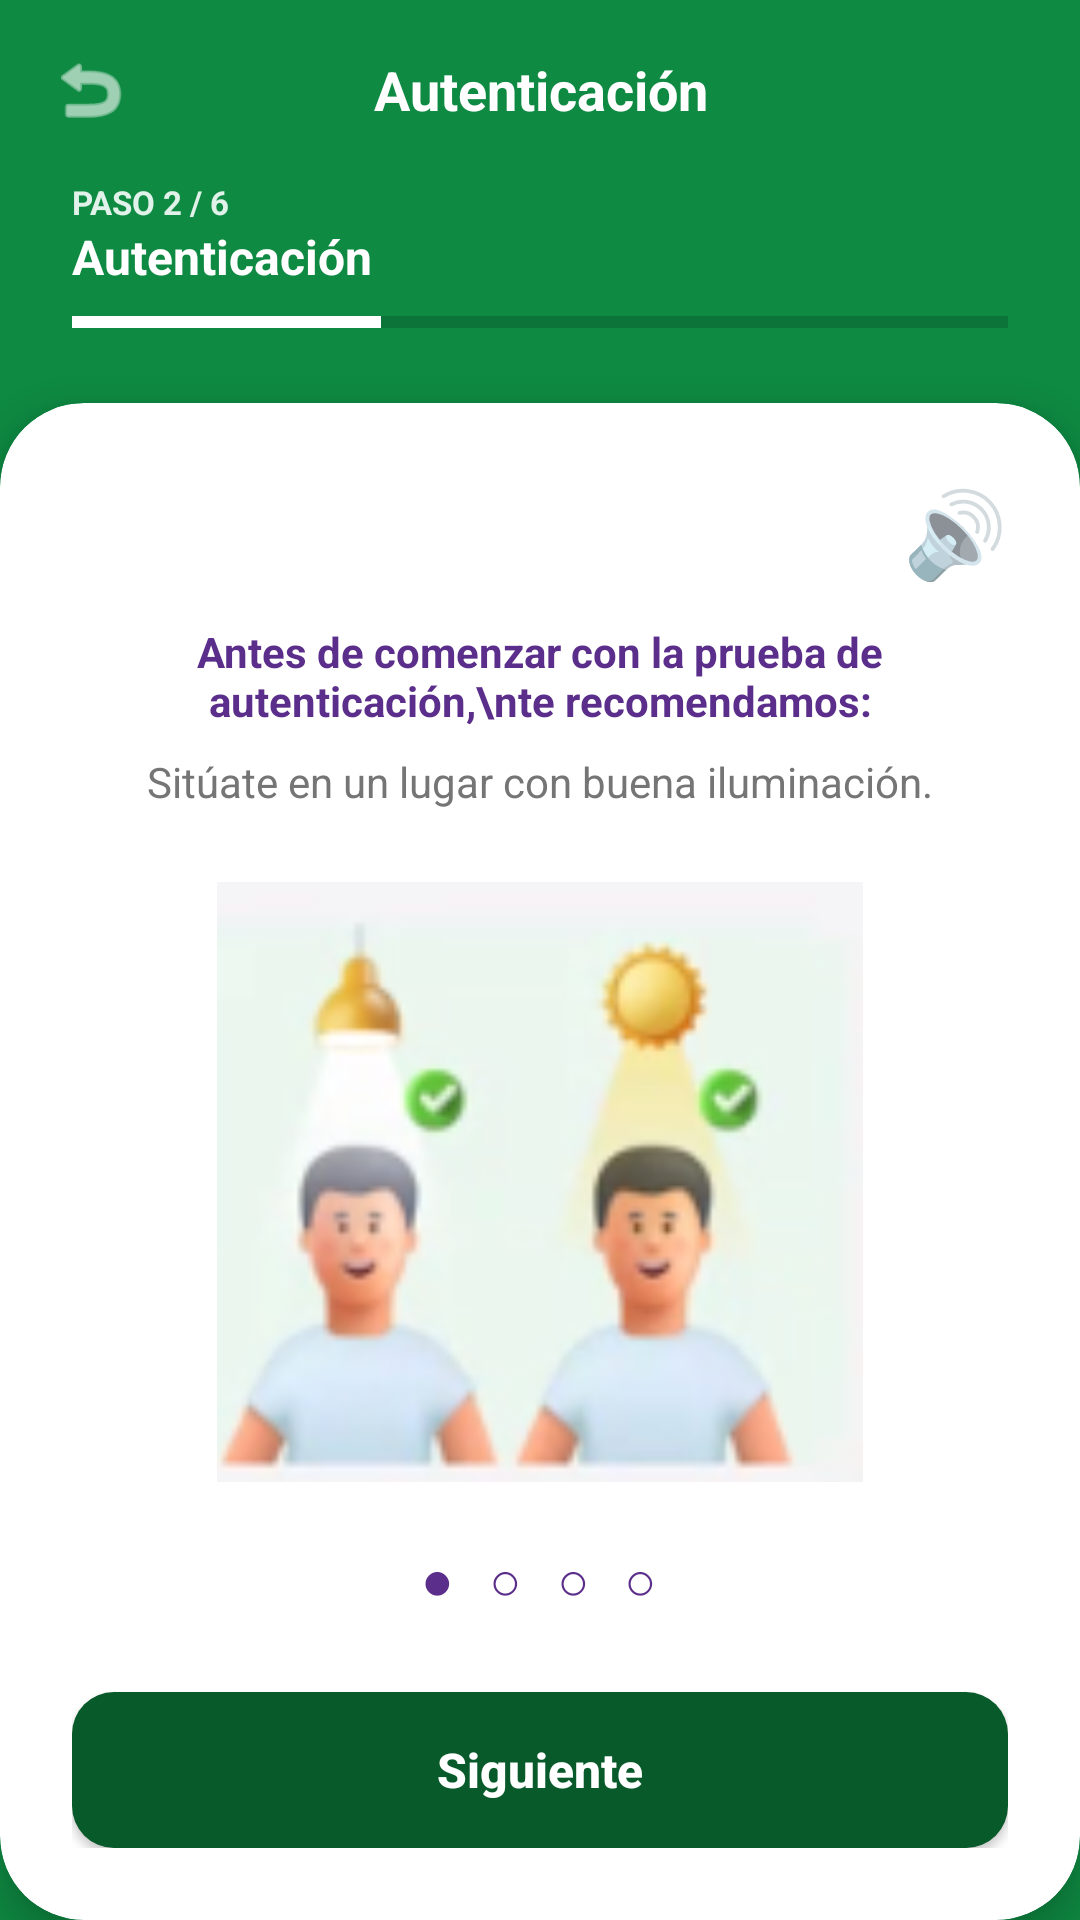

Point at icon controls on the screen. Image size 1080*1920, points as (x=x, y=y).
revert: (x=91, y=90)
